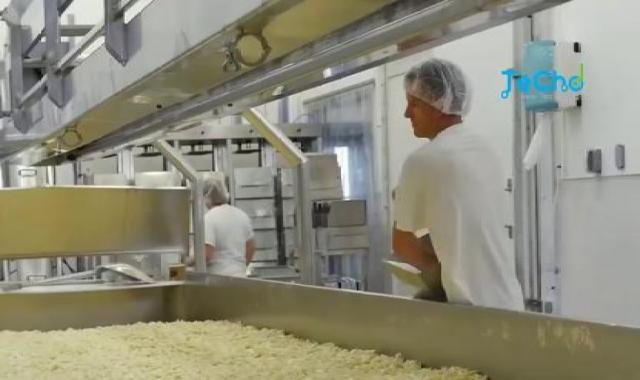hairnet: (390, 55, 481, 122), (198, 177, 236, 210)
